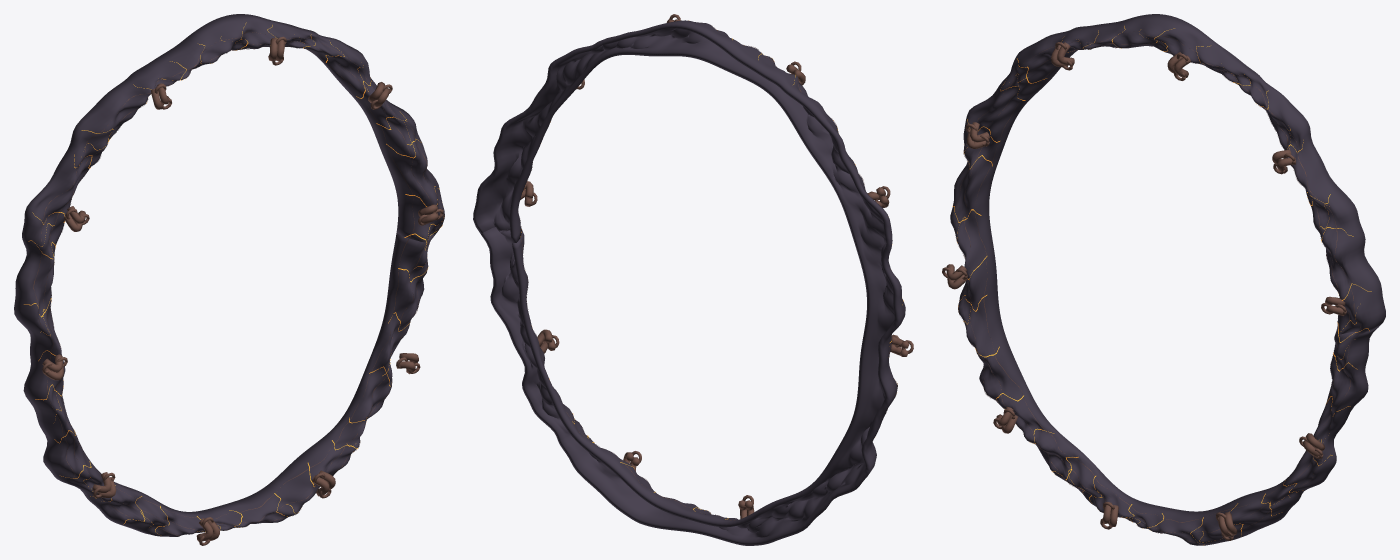
File: ForgeRiftV19.fbx
3 renders of one model, left to right at view 1: azimuth 30°, elevation 25°; view 2: azimuth 150°, elevation 25°; view 3: azimuth 330°, elevation 25°, orthographic.
Parts seen in each view (by area): view 1: Rift_Obsidian, Rift_Vitrified, Rift_Ember; view 2: Rift_Obsidian, Rift_Vitrified; view 3: Rift_Obsidian, Rift_Vitrified, Rift_Ember.
Boxes of the visible parts, x1,y1,x2,y2 form: Rift_Obsidian: [14, 14, 444, 536]; Rift_Vitrified: [33, 31, 444, 545]; Rift_Ember: [24, 22, 442, 533]; Rift_Obsidian: [473, 20, 905, 545]; Rift_Vitrified: [520, 14, 913, 520]; Rift_Obsidian: [950, 14, 1385, 545]; Rift_Vitrified: [942, 31, 1360, 544]; Rift_Ember: [952, 26, 1371, 545].
Bounding box in the file's own units: 1.72 × 1.96 × 0.1847.
